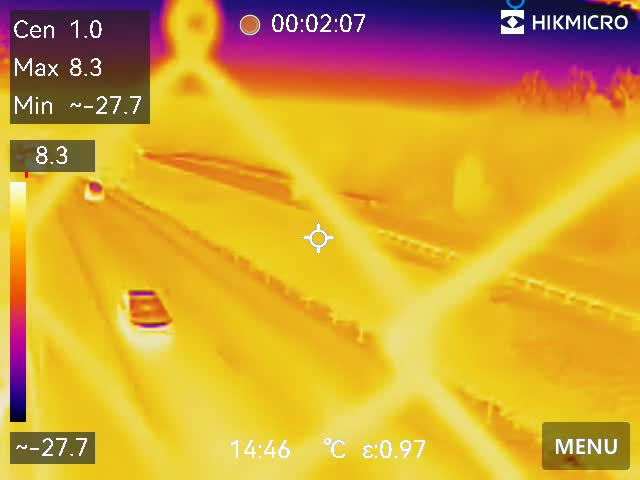vehicle: (118, 275, 179, 335), (76, 177, 105, 204)
